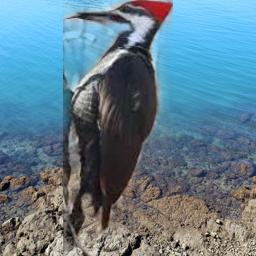Woodpecker: (63, 0, 173, 256)
